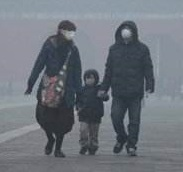person: (24, 19, 82, 158), (100, 20, 155, 156), (75, 68, 109, 156)
